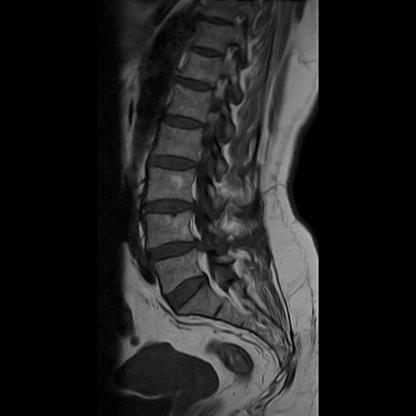Disc Bulgerotation: (144, 238, 208, 264), (139, 195, 200, 221), (144, 151, 205, 175)
